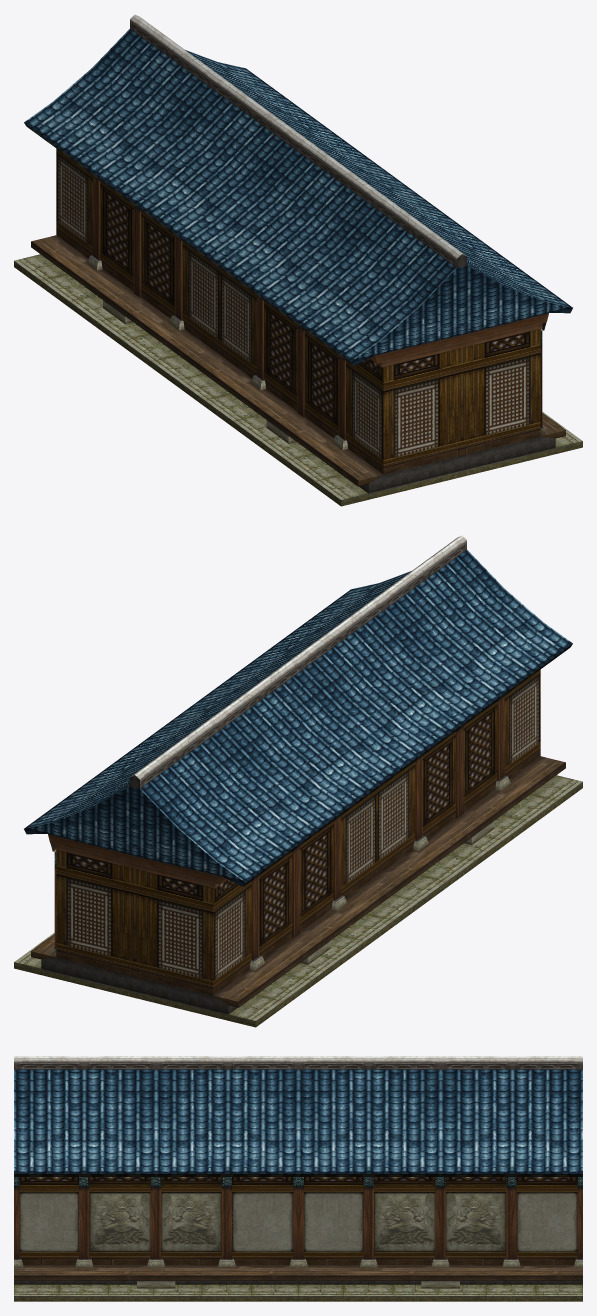
Rendered from secret_wall_01.fbx.
3 views of the same model, one above another, from view 1: azimuth 30°, elevation 25°; view 2: azimuth 150°, elevation 25°; view 3: azimuth 270°, elevation 25° (orthographic). The views are drawn at different scales.
Visible parts, largest first — view 1: secret_wall_01; view 2: secret_wall_01; view 3: secret_wall_01.
Boxes of the visible parts, left/top/right/bottom form: secret_wall_01: left=14, top=14, right=582, bottom=506; secret_wall_01: left=14, top=535, right=582, bottom=1027; secret_wall_01: left=14, top=1056, right=582, bottom=1301.
Bounding box in the file's own units: 12.8 × 11.29 × 30.
